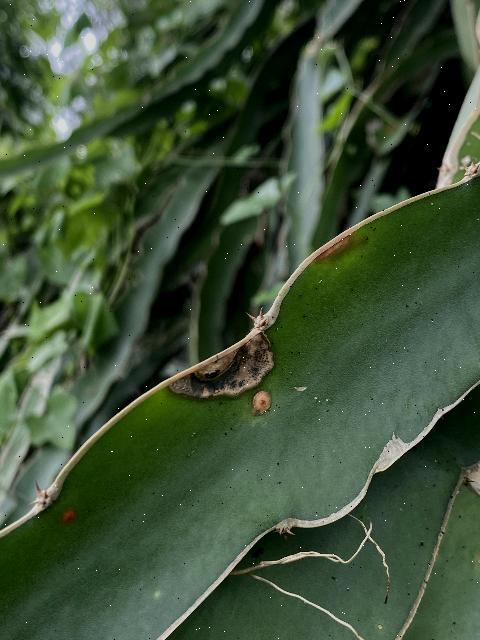stemcanker: (166, 331, 288, 403)
